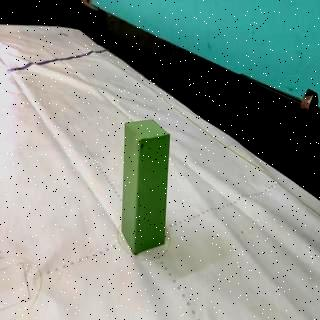greenbox: (122, 116, 172, 254)
